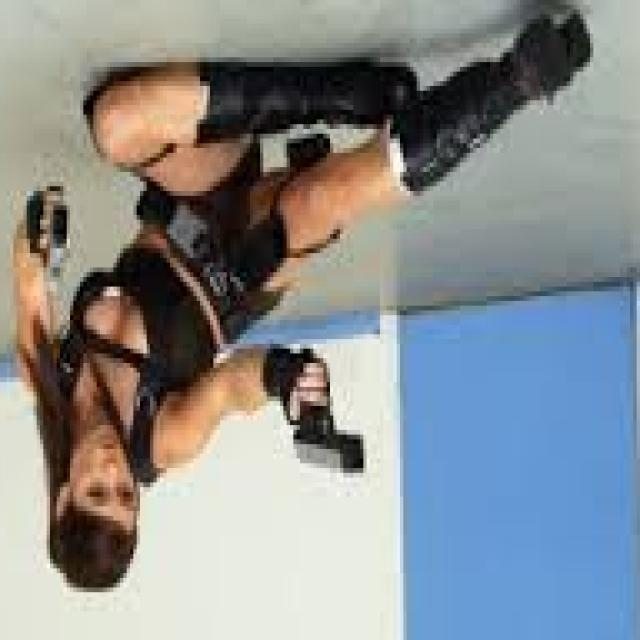gun: (252, 331, 380, 495)
